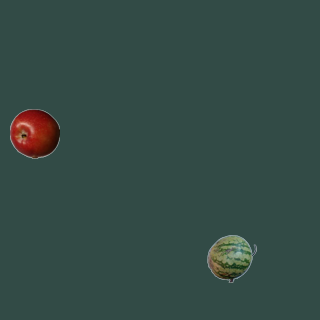Apple Braeburn: (9, 108, 59, 158)
Watermelon: (206, 233, 256, 283)
